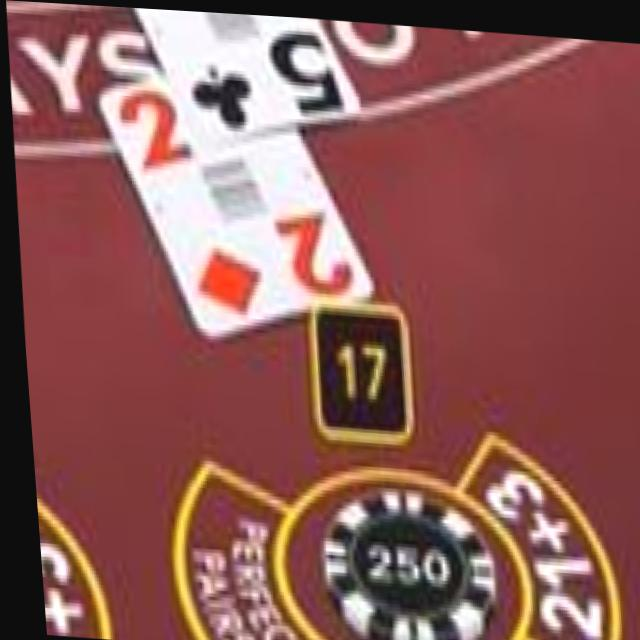Card-2: (98, 75, 371, 334)
Card-5: (135, 6, 360, 152)
